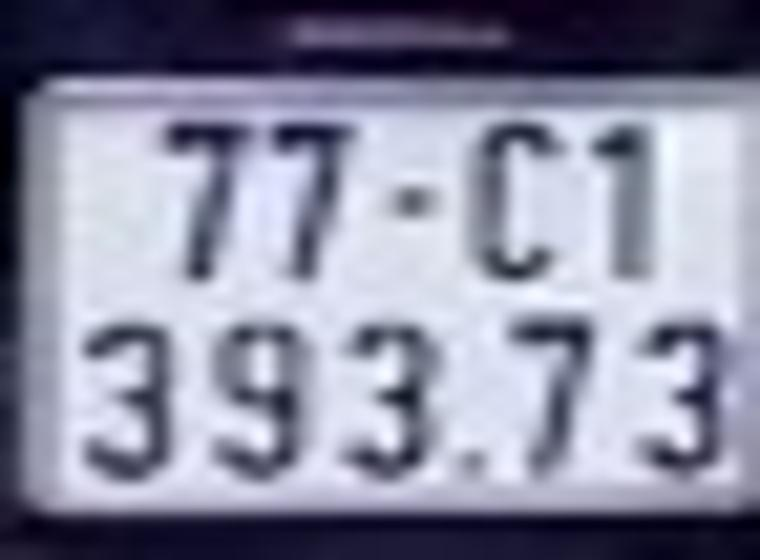-: (385, 191, 437, 216)
.: (462, 454, 483, 472)
1: (591, 123, 653, 279)
3: (341, 319, 438, 482), (83, 324, 169, 482), (647, 319, 724, 475)
7: (163, 123, 247, 285), (276, 120, 355, 283), (511, 316, 589, 481)
9: (210, 320, 308, 482)
C: (471, 119, 559, 280)
